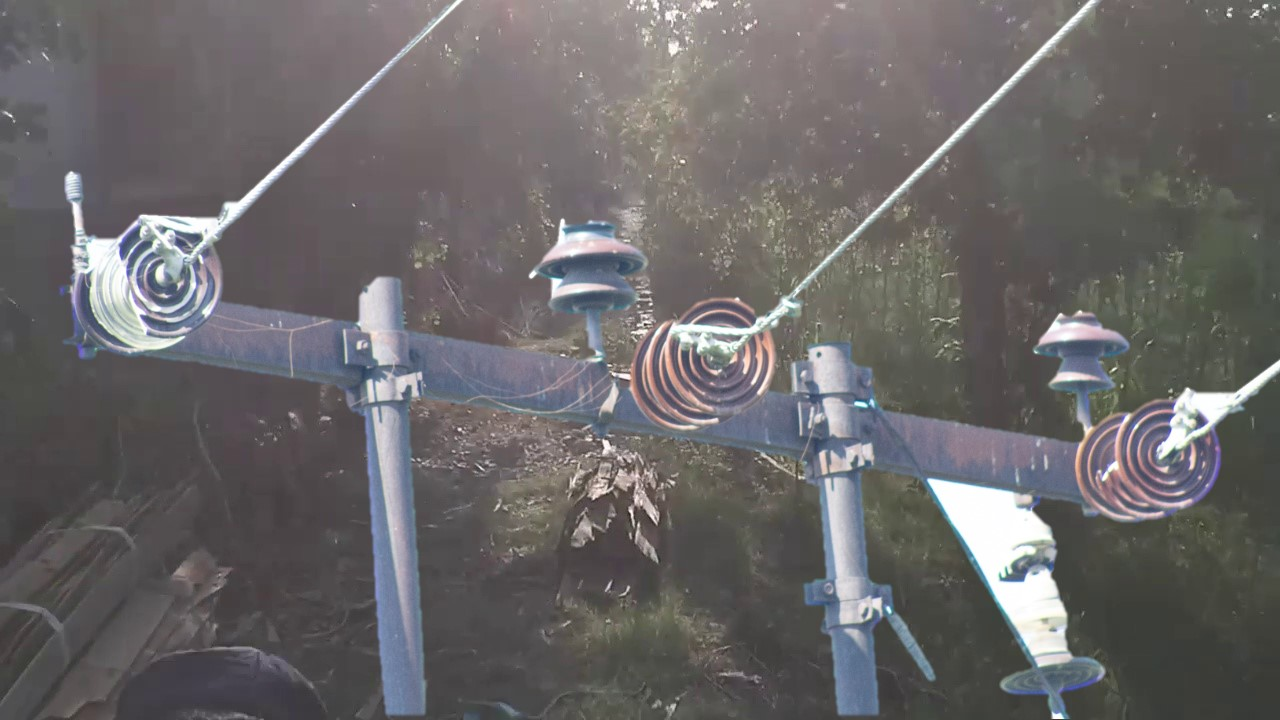defect_disc: (116, 208, 227, 341)
insulator_disc: (662, 286, 781, 421), (1116, 397, 1228, 514)
